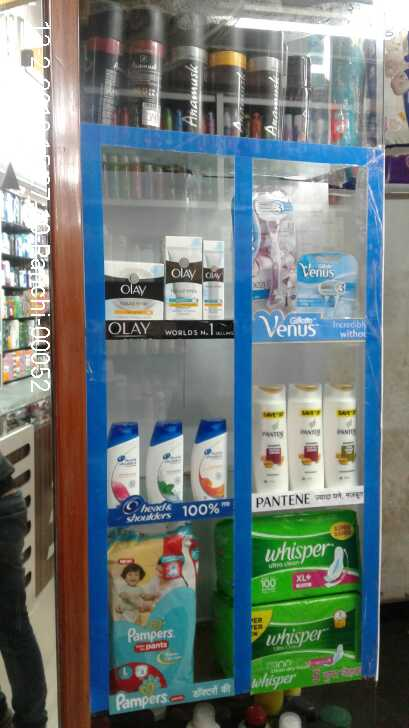venus: (254, 200, 299, 313), (299, 253, 354, 313)
